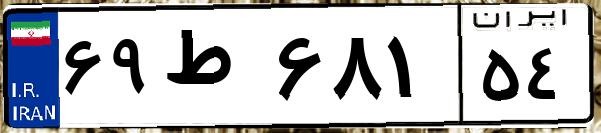1: (385, 28, 445, 110)
4: (525, 38, 570, 115)
5: (475, 38, 525, 113)
6: (270, 28, 330, 110), (57, 26, 110, 100)
8: (330, 28, 385, 110)
9: (110, 28, 158, 98)
ط: (158, 20, 270, 120)
